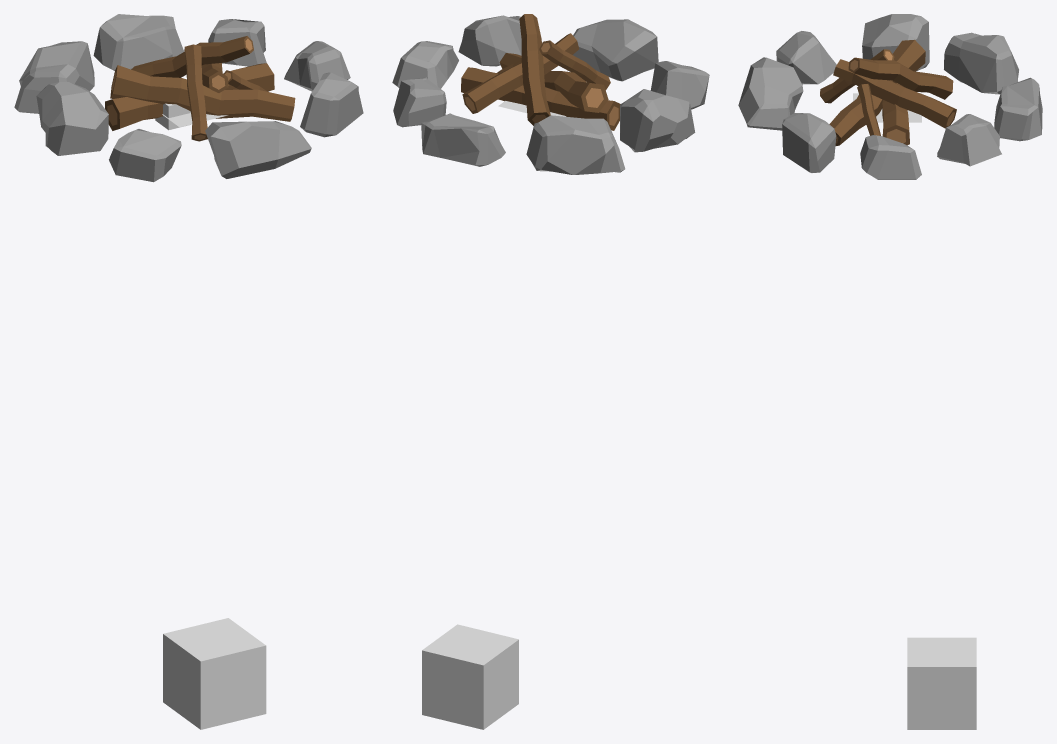
The model's file is Fogata.fbx.
The picture shows the model from 3 angles, left to right: view 1: azimuth 30°, elevation 25°; view 2: azimuth 150°, elevation 25°; view 3: azimuth 270°, elevation 25°; orthographic projection. The views are drawn at different scales.
Visible parts, largest first — view 1: rocas, leña, fire; view 2: rocas, leña, fire; view 3: rocas, leña, fire.
Boxes of the visible parts, x1,y1,x2,y2 form: rocas: [14, 14, 363, 182]; leña: [105, 36, 295, 141]; fire: [163, 618, 266, 729]; rocas: [392, 15, 709, 174]; leña: [461, 14, 620, 130]; fire: [422, 624, 518, 729]; rocas: [738, 14, 1042, 179]; leña: [820, 39, 956, 146]; fire: [907, 637, 976, 729].
Bounding box in the file's own units: 0.8909 × 2.03 × 0.8593.
